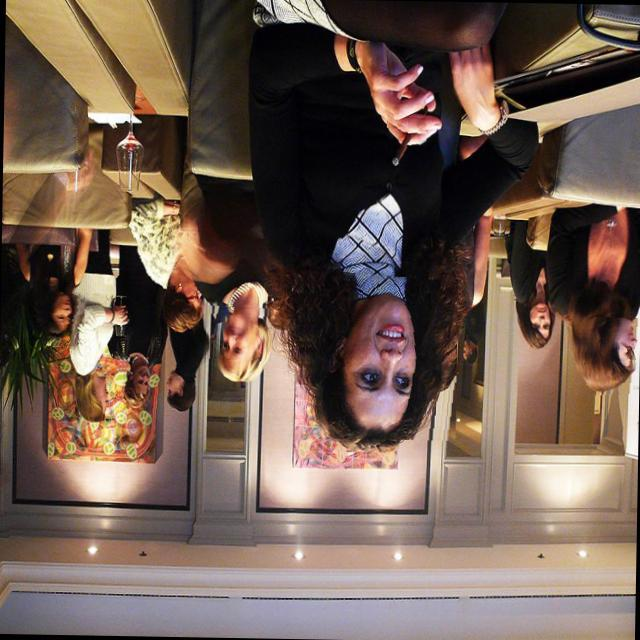cigarette: (386, 114, 430, 188)
